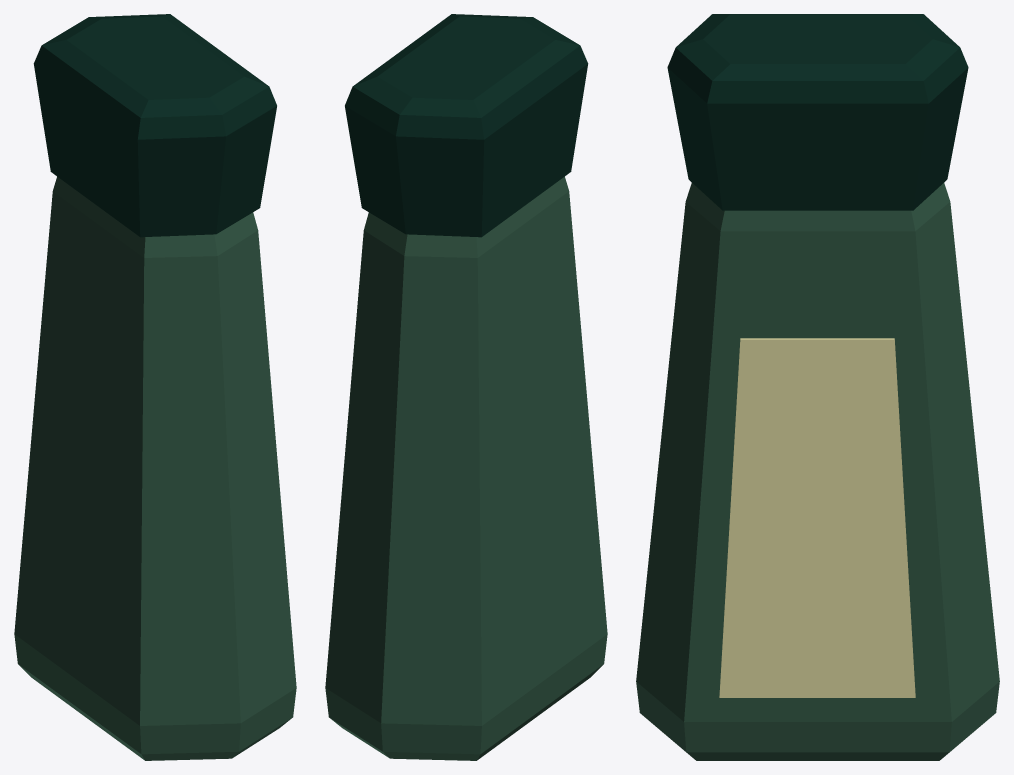
Rendered from shampoo.fbx.
3 views of the same model, side by side, from view 1: azimuth 30°, elevation 25°; view 2: azimuth 150°, elevation 25°; view 3: azimuth 270°, elevation 25° (orthographic). The views are drawn at different scales.
Parts seen in each view (by area): view 1: Cube.002; view 2: Cube.002; view 3: Cube.002.
Part boxes in pixels (box(x1,y1,x2,y2)): Cube.002: box(14, 14, 296, 760); Cube.002: box(325, 14, 607, 760); Cube.002: box(636, 14, 999, 760).
Bounding box in the file's own units: 101 × 388 × 186.
